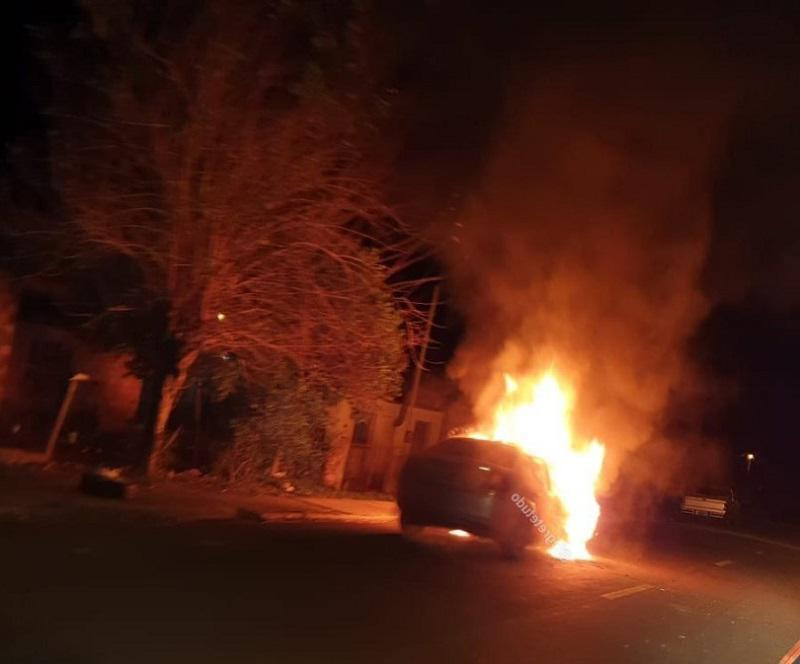Fire: (457, 359, 604, 558)
